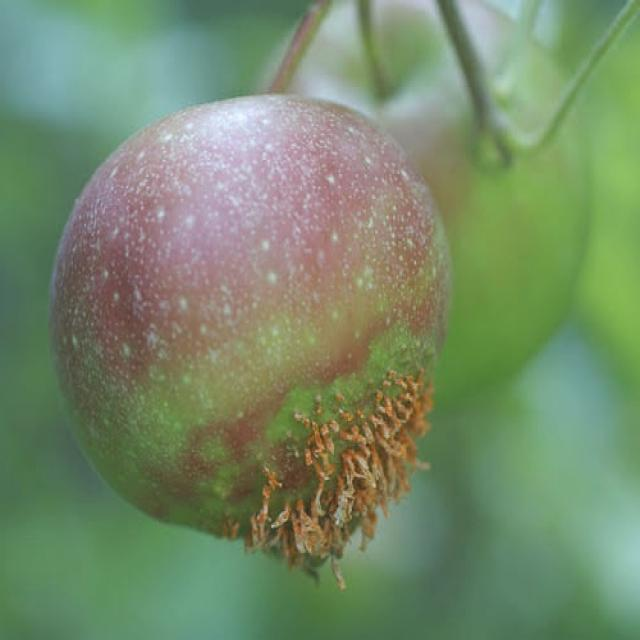Gymnosporangium_Rusts: (47, 89, 452, 587)
